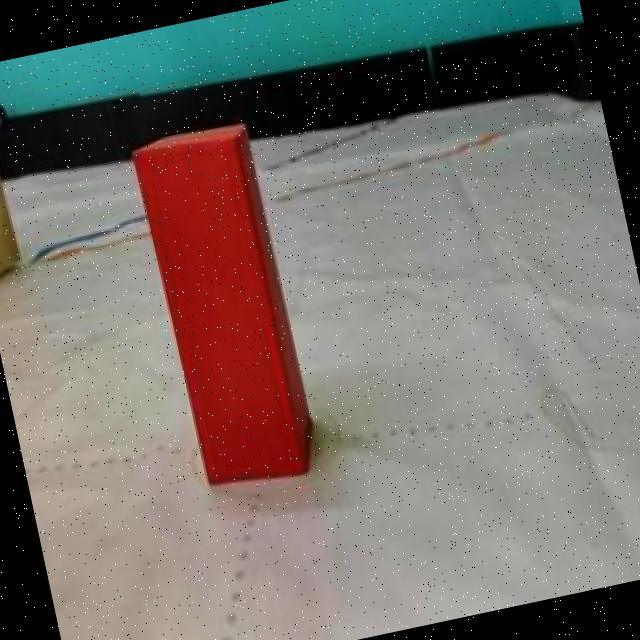redbox: (129, 117, 324, 494)
